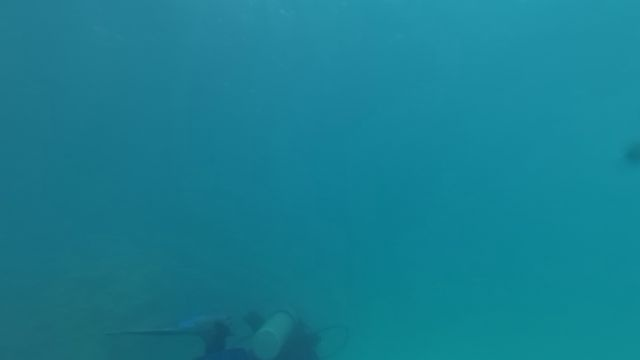Diver: (82, 301, 334, 359)
